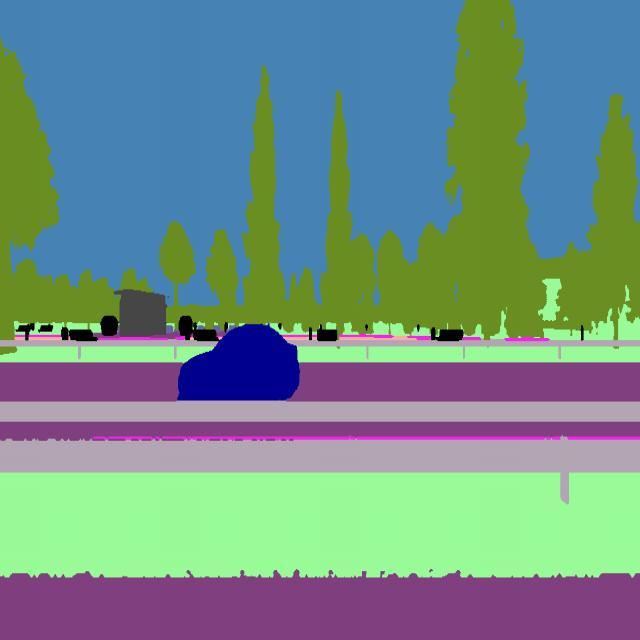safe: (175, 310, 302, 412)
